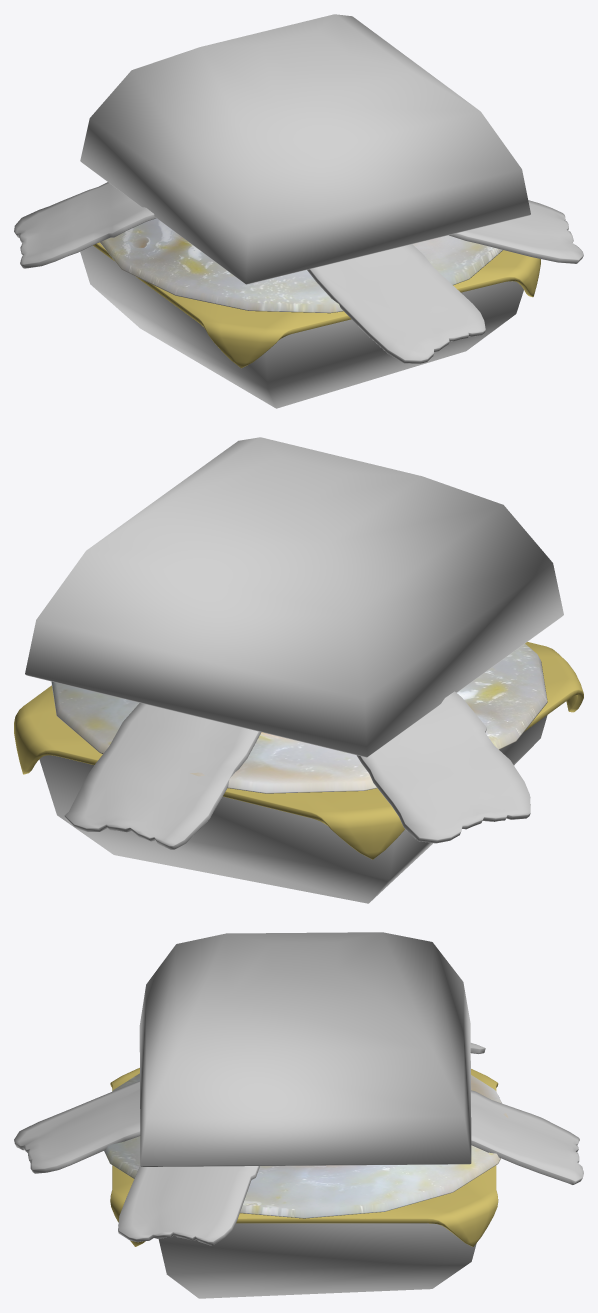
File: Egg_Sandwich.fbx
3 renders of one model, top to bottom at view 1: azimuth 30°, elevation 25°; view 2: azimuth 150°, elevation 25°; view 3: azimuth 270°, elevation 25°, orthographic. The views are drawn at different scales.
Visible parts, largest first — view 1: Mesh; view 2: Mesh; view 3: Mesh.
Boxes of the visible parts, x1,y1,x2,y2 form: Mesh: (14,14,583,408); Mesh: (14,437,583,903); Mesh: (14,932,583,1298).
Bounding box in the file's own units: 2.21 × 1.39 × 2.41.
